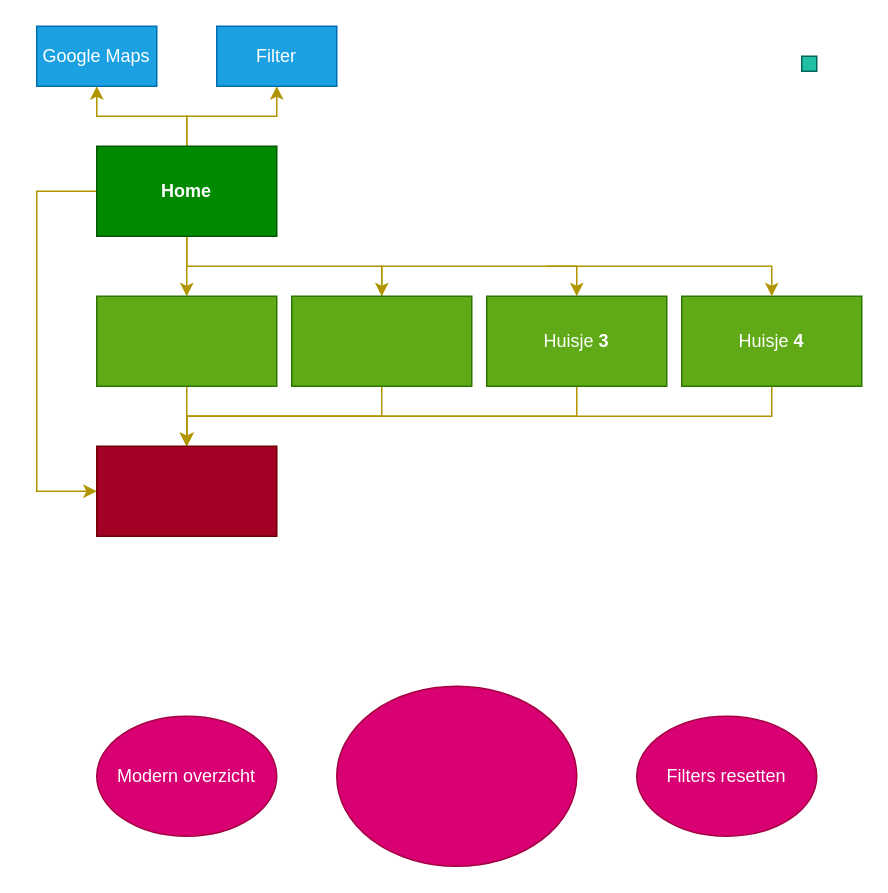
The diagram is 888 pixels wide and 893 high, and some of its shapes have lost their labels. Each missing label, with the box of its shape:
Colors 264653 2A9D8F E9C46A F4A261 E76F51: (335, 685, 577, 866)
Huisje 1: (95, 295, 277, 386)
Huisje 2: (290, 295, 472, 386)
Overzicht: (95, 445, 277, 536)
